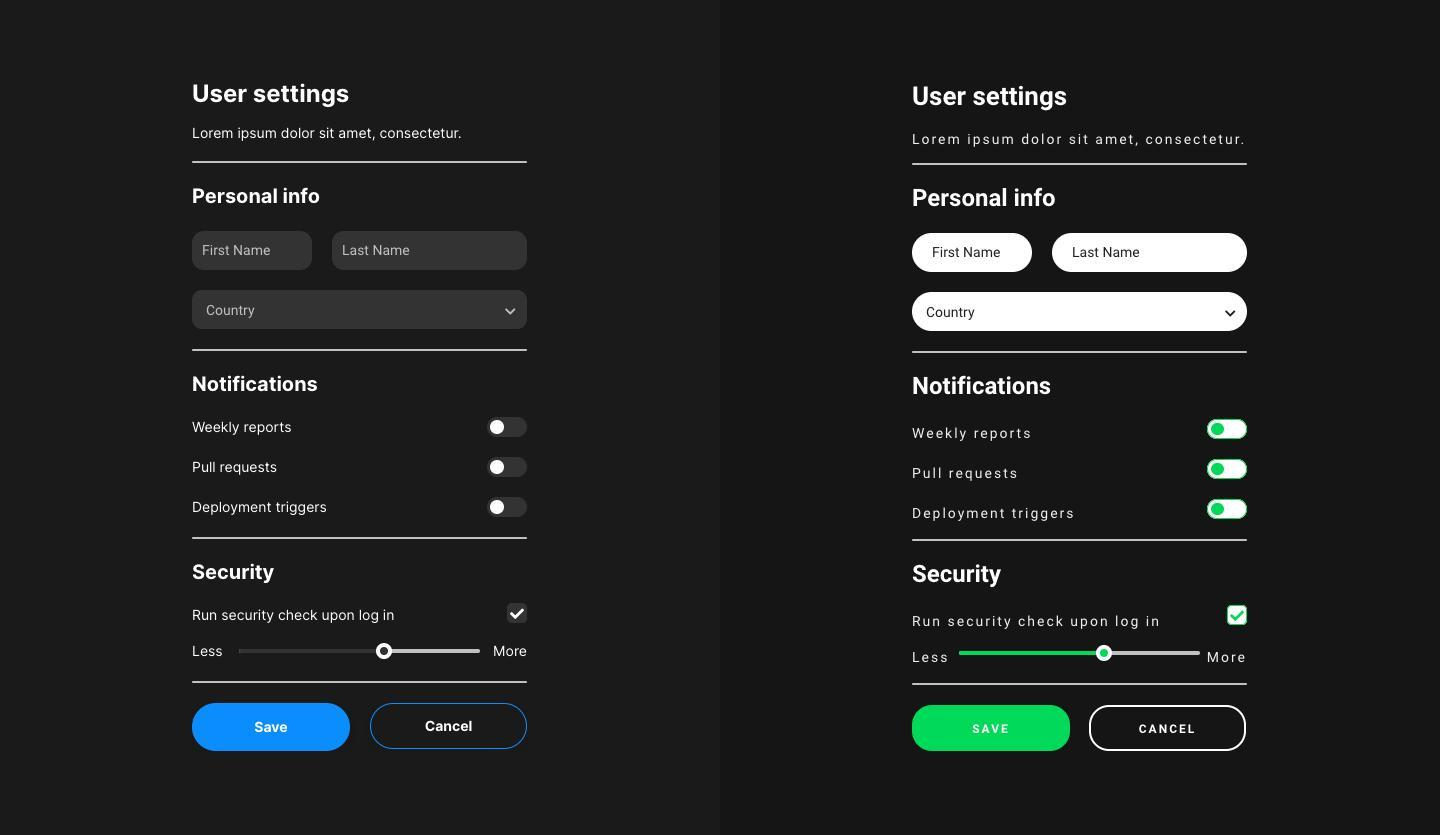button: (192, 703, 351, 752), (370, 704, 529, 751), (1090, 705, 1247, 752), (914, 706, 1070, 752)
checkbox: (507, 604, 528, 624), (1229, 607, 1248, 626)
dropdown: (194, 290, 528, 332), (913, 293, 1248, 333)
input: (332, 230, 529, 271), (1053, 234, 1248, 274), (193, 231, 314, 272), (913, 235, 1034, 274)
label: (907, 610, 1162, 636), (190, 78, 355, 114), (906, 83, 1076, 117), (911, 180, 1060, 216), (190, 603, 398, 628), (904, 552, 1014, 590), (901, 372, 1065, 397), (191, 369, 319, 399), (188, 188, 324, 216), (911, 505, 1078, 526), (906, 421, 1038, 446), (910, 463, 1022, 487), (191, 499, 330, 518), (186, 563, 286, 589), (194, 421, 298, 441), (190, 457, 280, 479), (489, 639, 533, 666), (907, 649, 954, 672), (191, 643, 229, 666), (1206, 651, 1254, 669)
slider: (956, 645, 1206, 663), (240, 643, 485, 661)
switch: (487, 457, 528, 480), (487, 497, 529, 519), (489, 418, 528, 439), (1208, 420, 1248, 440), (1208, 460, 1248, 480), (1208, 500, 1248, 520)
